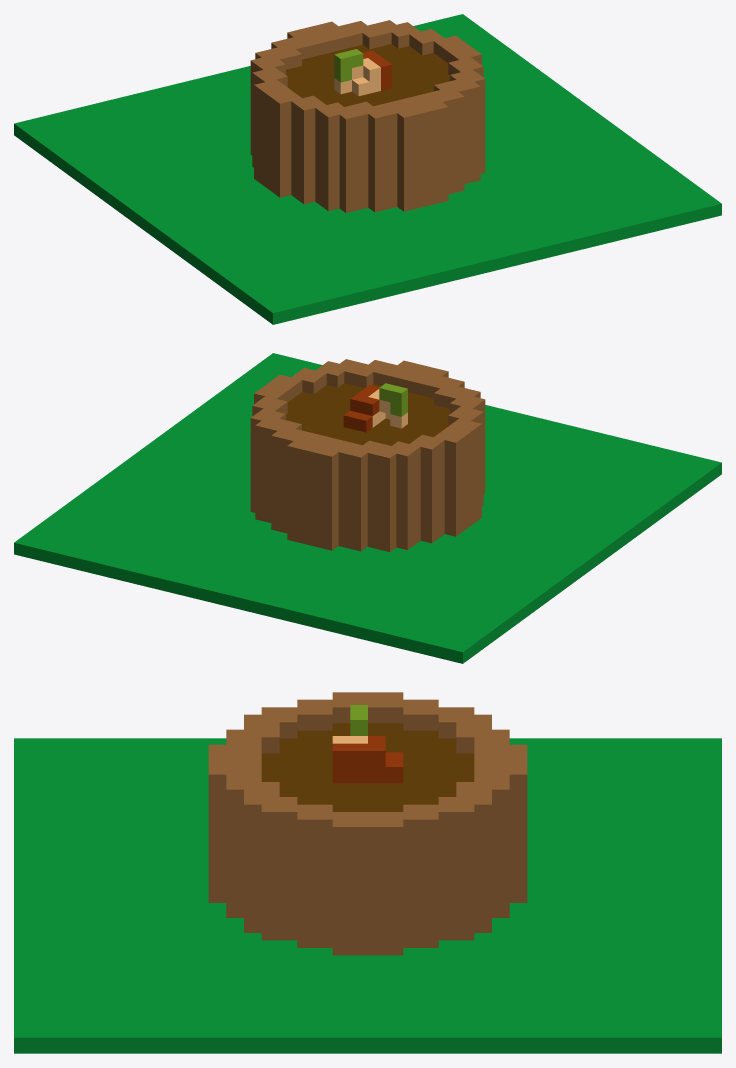
The model's file is Planta 2.glb.
3 renders of one model, top to bottom at view 1: azimuth 30°, elevation 25°; view 2: azimuth 150°, elevation 25°; view 3: azimuth 270°, elevation 25°, orthographic. The views are drawn at different scales.
Parts seen in each view (by area): view 1: _0; view 2: _0; view 3: _0.
Part boxes in pixels (box(x1,y1,x2,y2)): _0: box(14, 14, 721, 324); _0: box(14, 353, 721, 663); _0: box(14, 692, 721, 1053).
Bounding box in the file's own units: 40 × 11 × 40.
